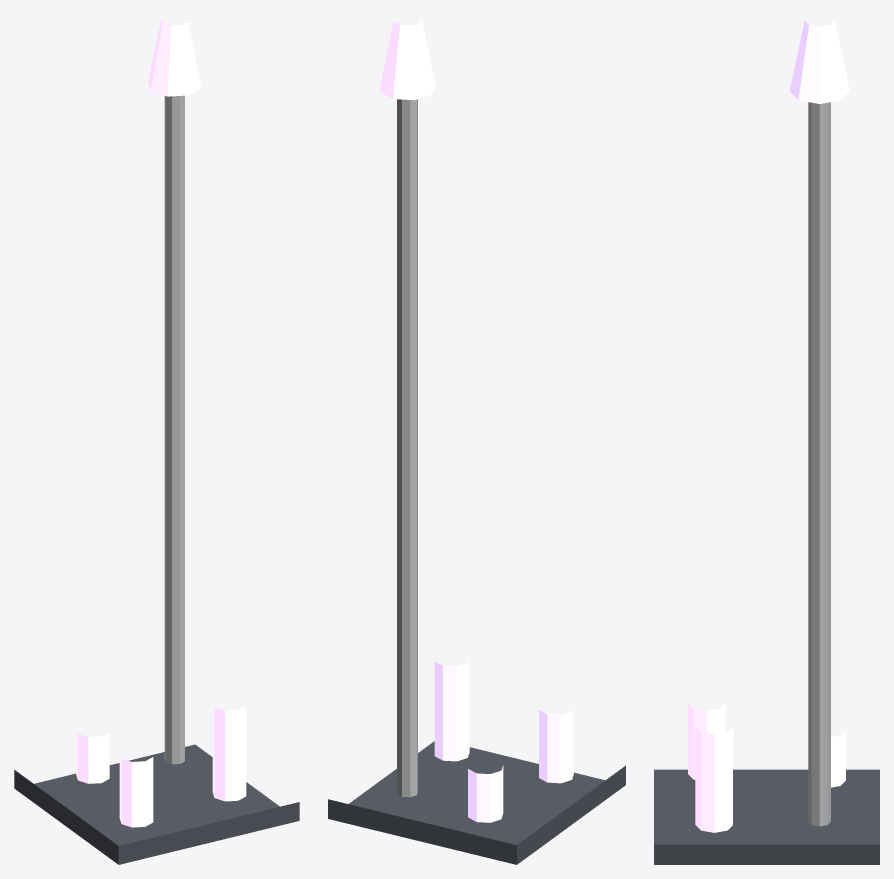
File: ext_violet_field_lamp_05.glb
3 views of the same model, side by side, from view 1: azimuth 30°, elevation 25°; view 2: azimuth 150°, elevation 25°; view 3: azimuth 270°, elevation 25° (orthographic). The views are drawn at different scales.
Visible parts, largest first — view 1: Tray, Stake, Candles, Beacon; view 2: Tray, Stake, Candles, Beacon; view 3: Tray, Stake, Candles, Beacon.
Boxes of the visible parts, box(x1,y1,x2,y2) form: Tray: box(14, 744, 299, 864); Stake: box(164, 95, 184, 764); Candles: box(76, 702, 246, 827); Beacon: box(148, 19, 201, 96); Tray: box(328, 741, 625, 864); Stake: box(397, 99, 417, 797); Candles: box(434, 658, 573, 822); Beacon: box(379, 19, 435, 100); Tray: box(654, 769, 879, 864); Stake: box(808, 102, 830, 826); Candles: box(688, 703, 845, 832); Beacon: box(789, 20, 849, 103).
Bounding box in the file's own units: 0.3 × 1.2 × 0.3.
